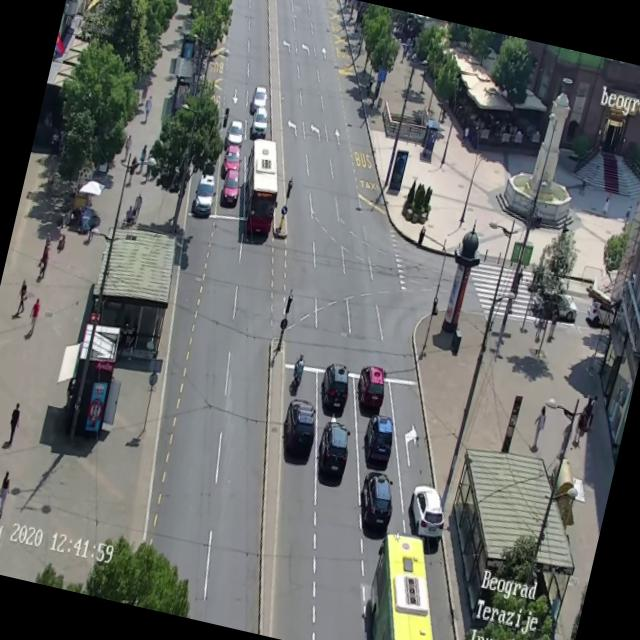bus: (353, 527, 462, 640), (231, 135, 289, 238)
car: (402, 482, 452, 544), (353, 468, 400, 532), (278, 396, 322, 458), (358, 412, 402, 472), (312, 424, 352, 485), (526, 286, 578, 328), (351, 360, 390, 414), (316, 362, 354, 416), (190, 178, 220, 218), (584, 300, 616, 332), (220, 172, 242, 206), (250, 108, 270, 140), (218, 145, 240, 173), (250, 84, 269, 116), (224, 119, 246, 146)
